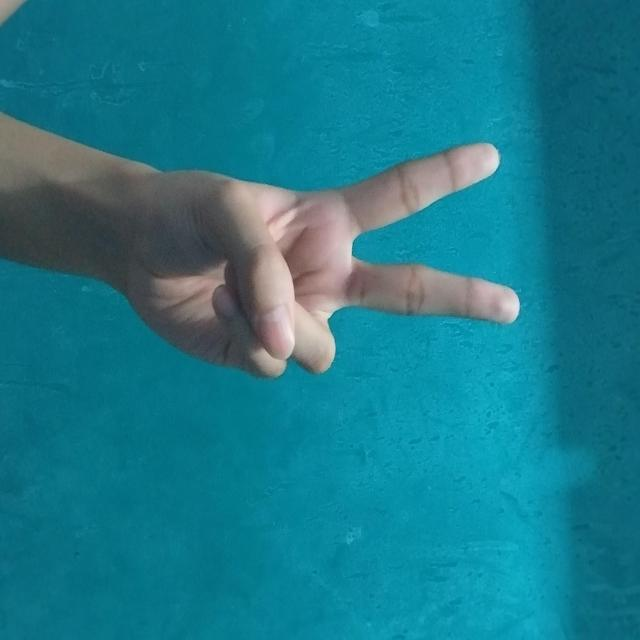V: (141, 120, 385, 518)
